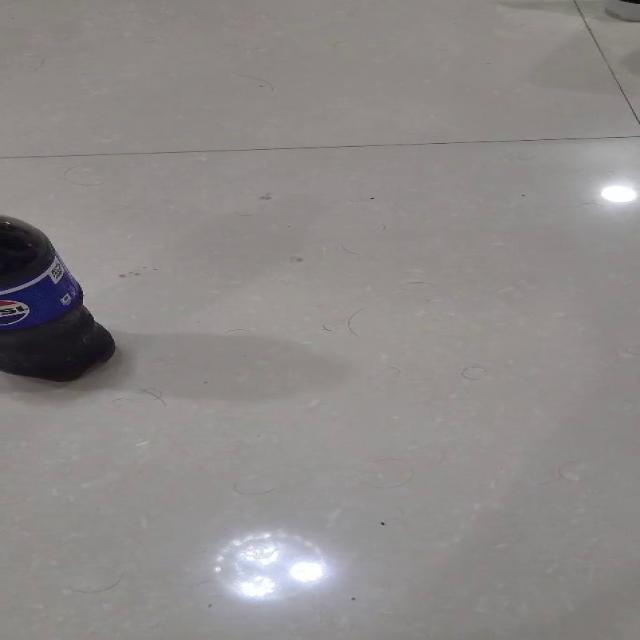plastic: (0, 213, 116, 382)
